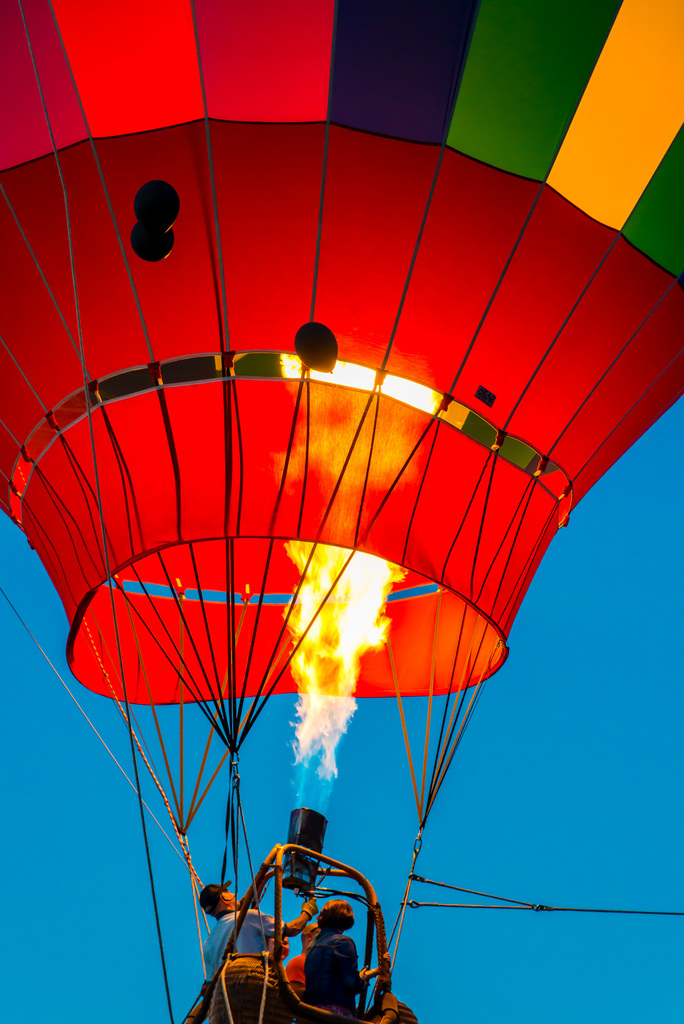Person: (203, 886, 319, 982), (306, 895, 390, 1014), (289, 923, 318, 987)
